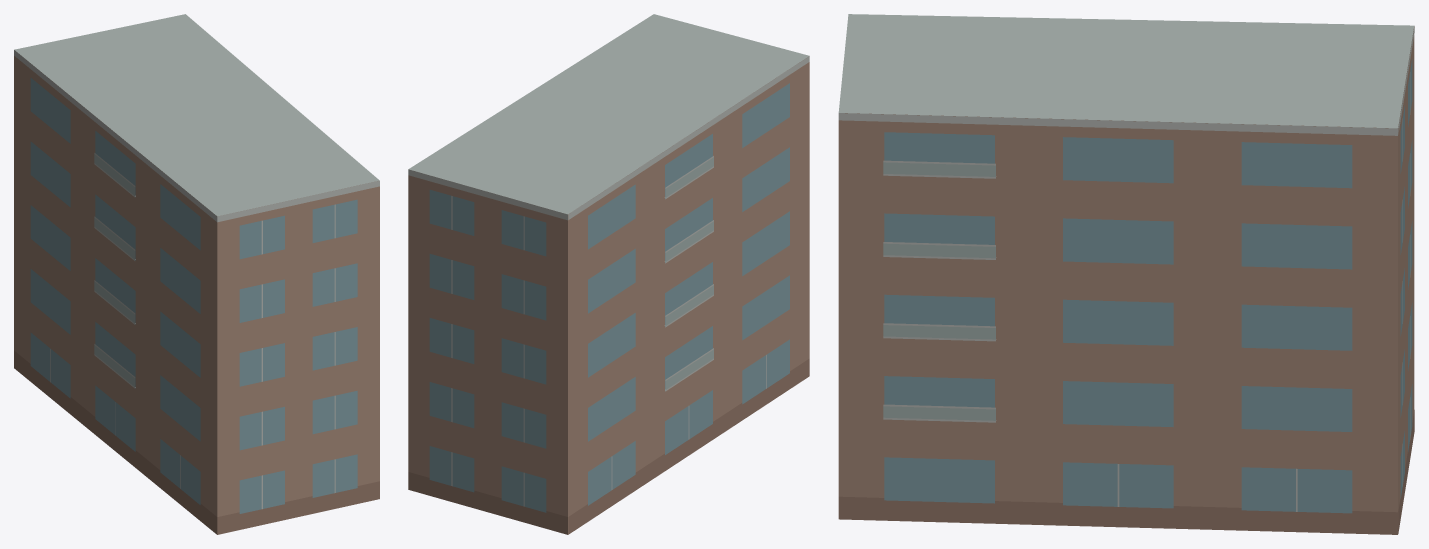
File: survey-upis-33036859.glb
The picture shows the model from 3 angles, left to right: view 1: azimuth 30°, elevation 25°; view 2: azimuth 150°, elevation 25°; view 3: azimuth 270°, elevation 25°; orthographic projection. The views are drawn at different scales.
Parts seen in each view (by area): view 1: survey-upis-33036859.tmp; view 2: survey-upis-33036859.tmp; view 3: survey-upis-33036859.tmp.
Boxes of the visible parts, bbox=[...] form: survey-upis-33036859.tmp: bbox=[14, 14, 379, 534]; survey-upis-33036859.tmp: bbox=[408, 14, 809, 534]; survey-upis-33036859.tmp: bbox=[838, 14, 1414, 534].
Bounding box in the file's own units: 7.96 × 13.18 × 16.93.
